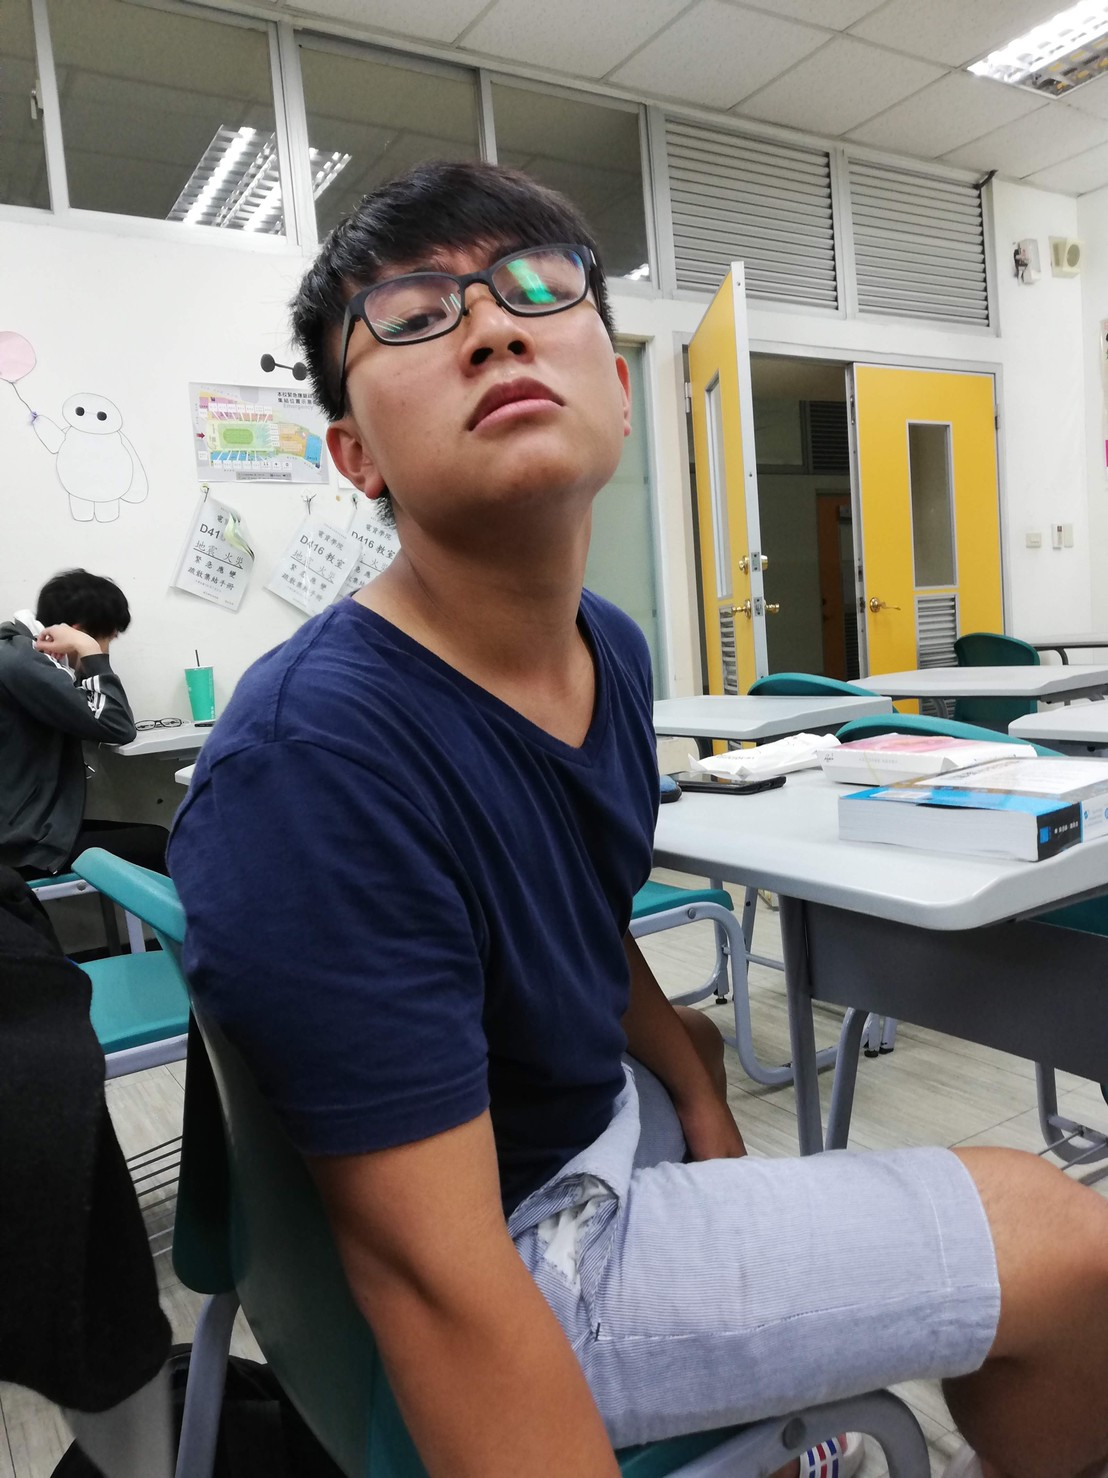people: (252, 162, 755, 1462), (9, 550, 124, 914)
